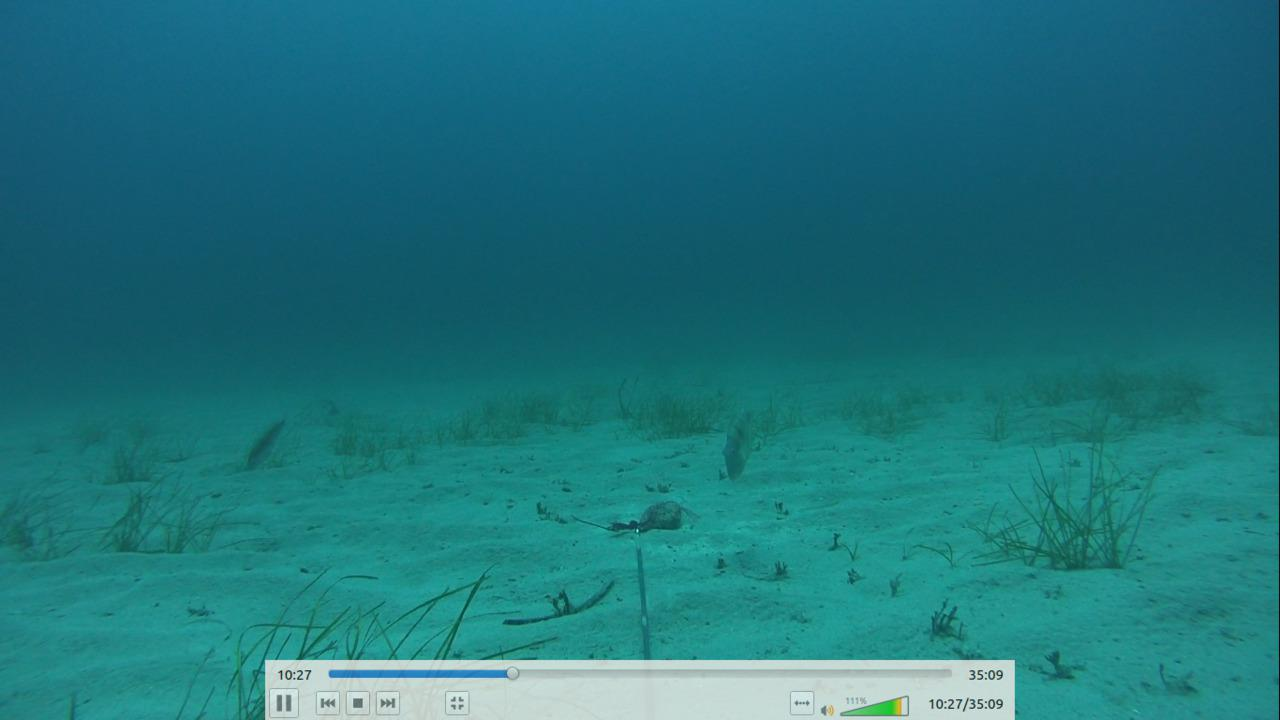raor: (236, 411, 294, 468)
